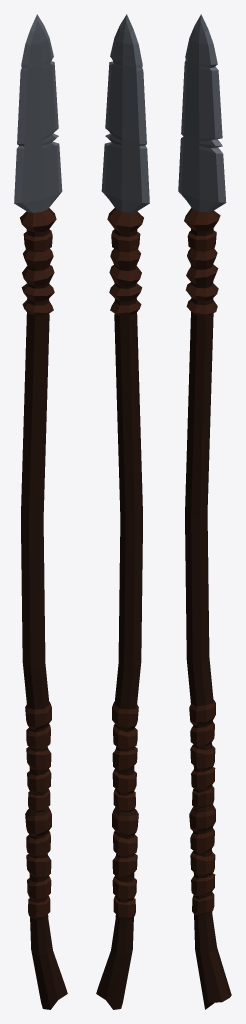
Rendered from Spear.obj.
3 renders of one model, left to right at view 1: azimuth 30°, elevation 25°; view 2: azimuth 150°, elevation 25°; view 3: azimuth 330°, elevation 25°, orthographic.
Visible parts, largest first — view 1: Spear_Cylinder.031; view 2: Spear_Cylinder.031; view 3: Spear_Cylinder.031.
Boxes of the visible parts, left/top/right/bottom form: Spear_Cylinder.031: left=14, top=14, right=67, bottom=1009; Spear_Cylinder.031: left=96, top=14, right=149, bottom=1009; Spear_Cylinder.031: left=178, top=14, right=231, bottom=1009.
Bounding box in the file's own units: 0.5301 × 9.72 × 0.3249.
